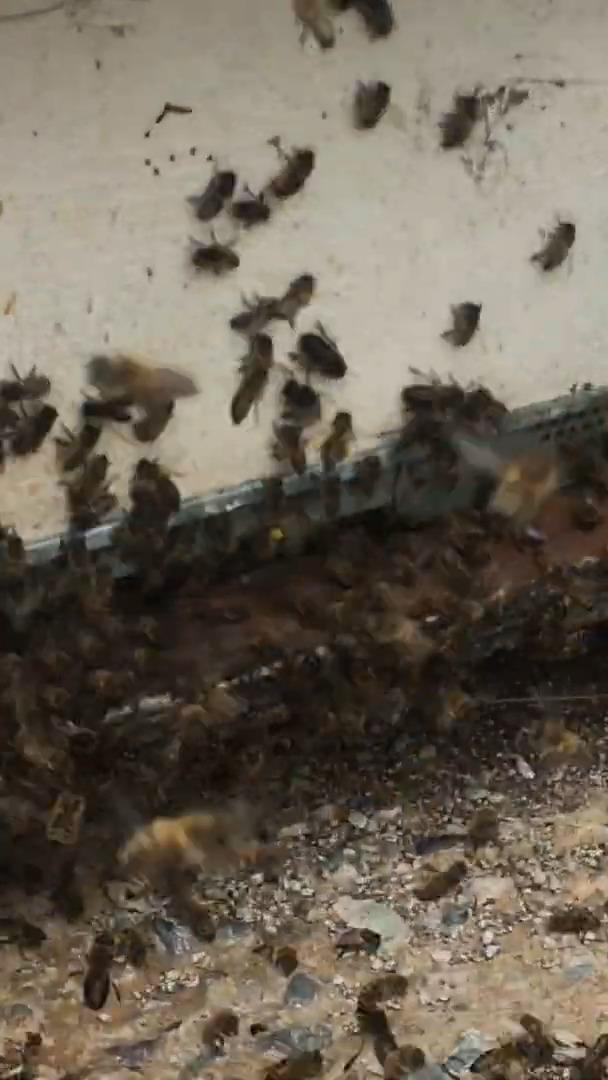worker-bee: (400, 378, 507, 448), (356, 974, 408, 1066), (230, 332, 274, 424), (129, 457, 180, 521), (289, 322, 346, 379), (264, 137, 315, 200), (83, 931, 119, 1010), (187, 167, 236, 222), (9, 402, 57, 457), (271, 273, 315, 329), (529, 220, 575, 272), (56, 420, 100, 471), (438, 94, 478, 149), (414, 860, 466, 900), (190, 234, 239, 275), (0, 365, 50, 404), (352, 80, 391, 129), (229, 297, 277, 336), (281, 378, 320, 425), (441, 301, 481, 346), (229, 188, 270, 227), (547, 906, 600, 935)
